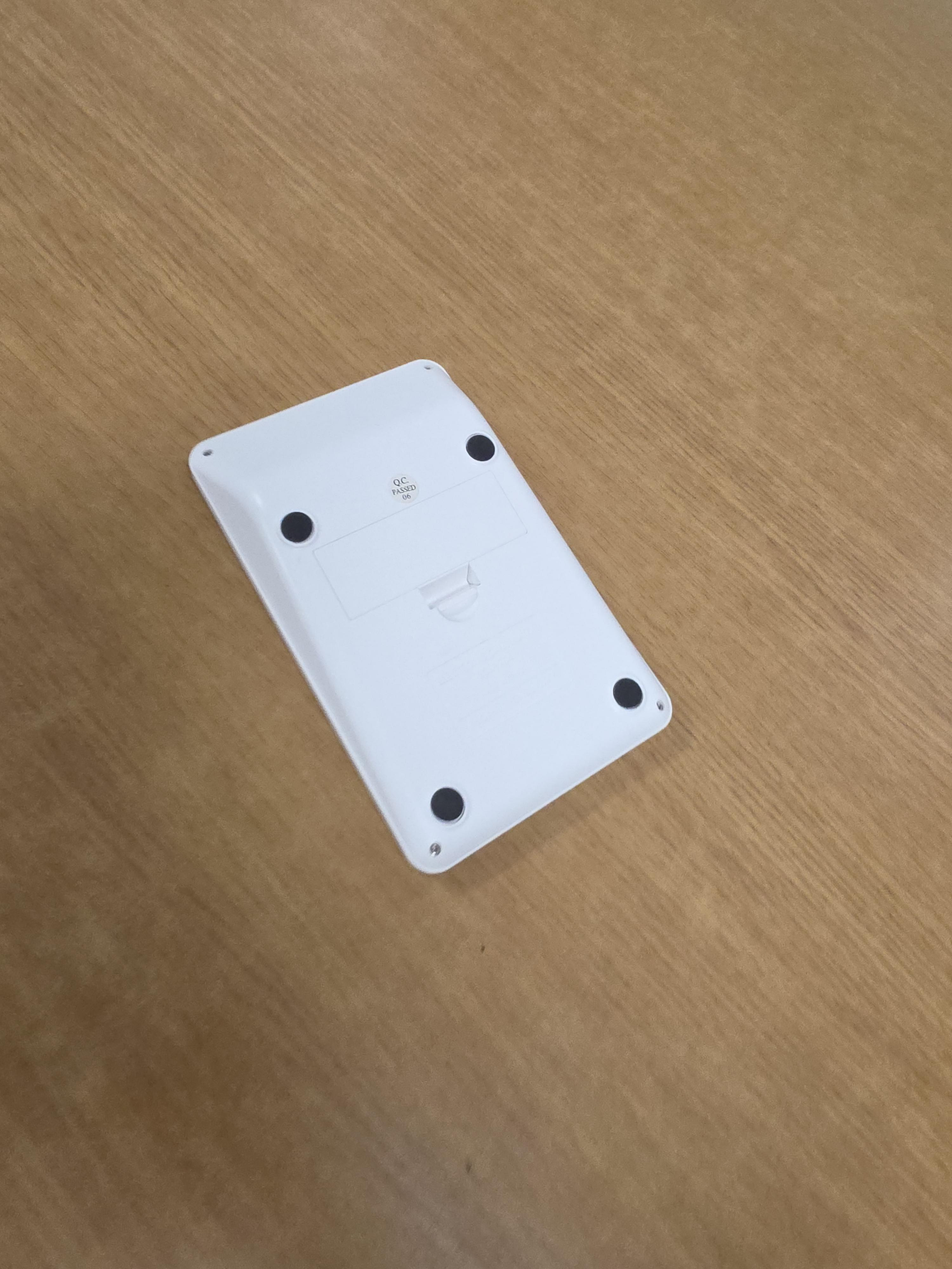calculator: (188, 359, 673, 876)
